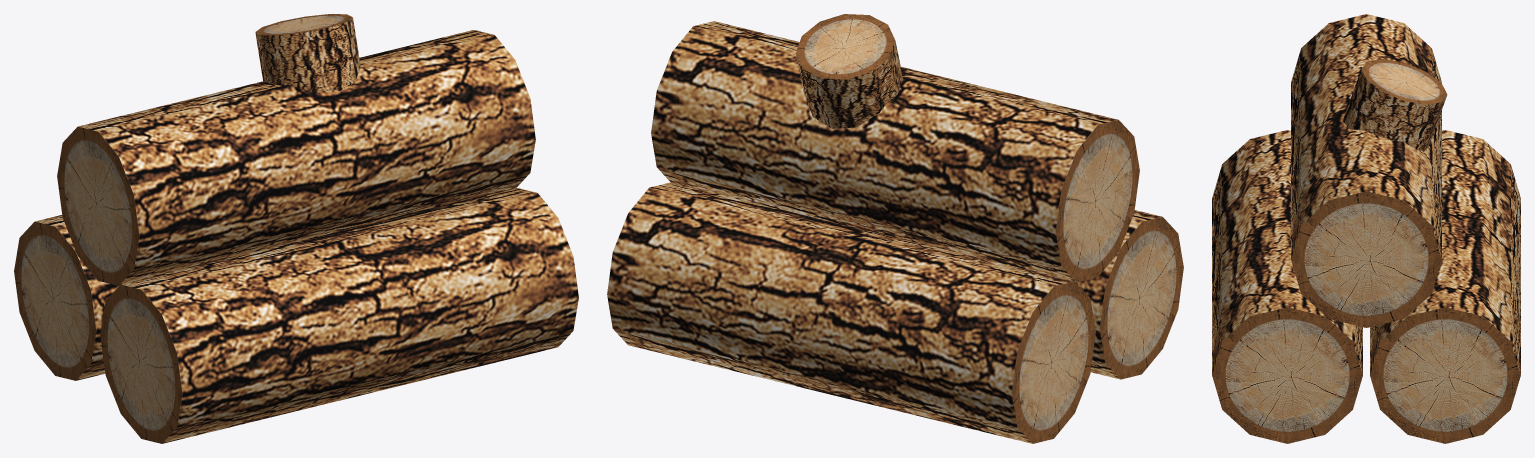
File: static.glb
3 renders of one model, left to right at view 1: azimuth 30°, elevation 25°; view 2: azimuth 150°, elevation 25°; view 3: azimuth 270°, elevation 25°, orthographic. The views are drawn at different scales.
Visible parts, largest first — view 1: Cylinder, Cylinder_4, Cylinder_2, Cylinder_3; view 2: Cylinder_2, Cylinder_4, Cylinder, Cylinder_3; view 3: Cylinder_4, Cylinder, Cylinder_2, Cylinder_3.
Boxes of the visible parts, left/top/right/bottom form: Cylinder: left=100, top=188, right=578, bottom=443; Cylinder_4: left=57, top=30, right=535, bottom=285; Cylinder_2: left=14, top=215, right=118, bottom=380; Cylinder_3: left=255, top=14, right=360, bottom=92; Cylinder_2: left=607, top=182, right=1095, bottom=443; Cylinder_4: left=651, top=21, right=1139, bottom=282; Cylinder: left=1076, top=210, right=1183, bottom=379; Cylinder_3: left=795, top=14, right=903, bottom=128; Cylinder_4: left=1291, top=14, right=1441, bottom=327; Cylinder: left=1212, top=130, right=1362, bottom=443; Cylinder_2: left=1370, top=130, right=1520, bottom=443; Cylinder_3: left=1343, top=59, right=1447, bottom=151.
Size of the model in its own units: 0.9035 by 0.7103 by 0.665.
Materials: 2 (2 with a texture image).
